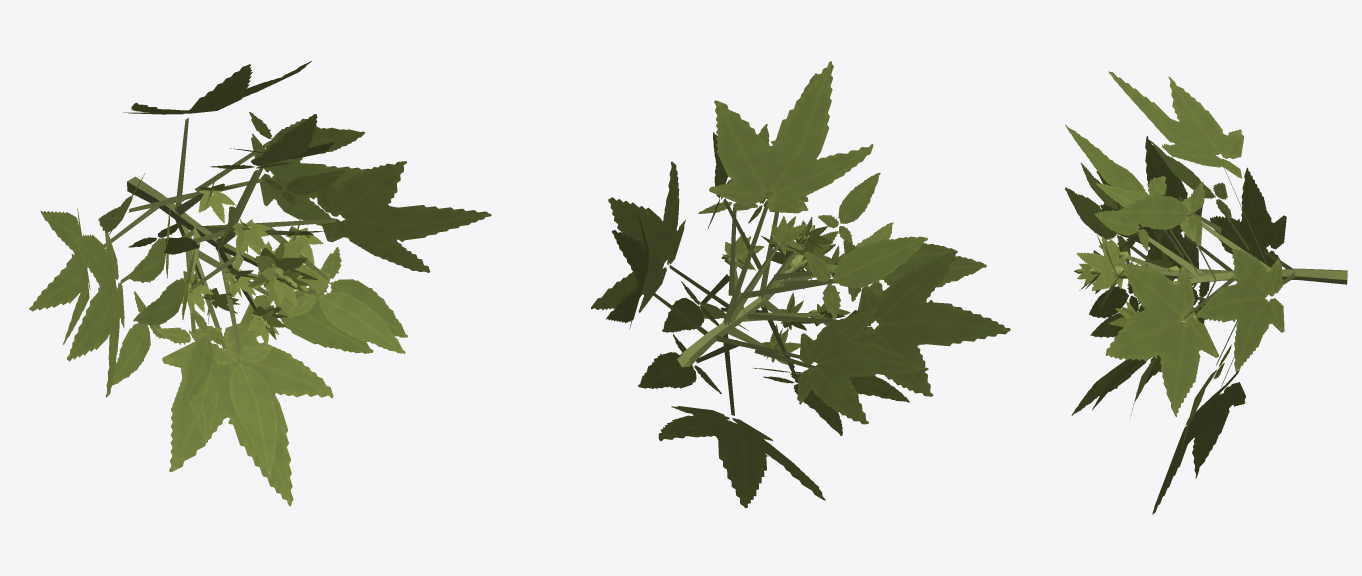
The model's file is p_auto_preflower_c1_cards.obj.
3 views of the same model, side by side, from view 1: azimuth 30°, elevation 25°; view 2: azimuth 150°, elevation 25°; view 3: azimuth 270°, elevation 25° (orthographic). The views are drawn at different scales.
Size of the model in its own units: 1.28 by 1.31 by 0.733.
1 material, 1 textured.
